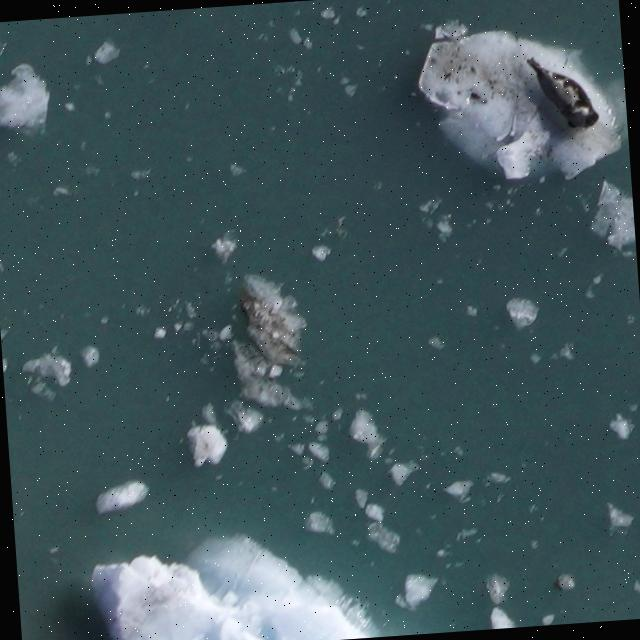seal: (526, 50, 603, 135)
